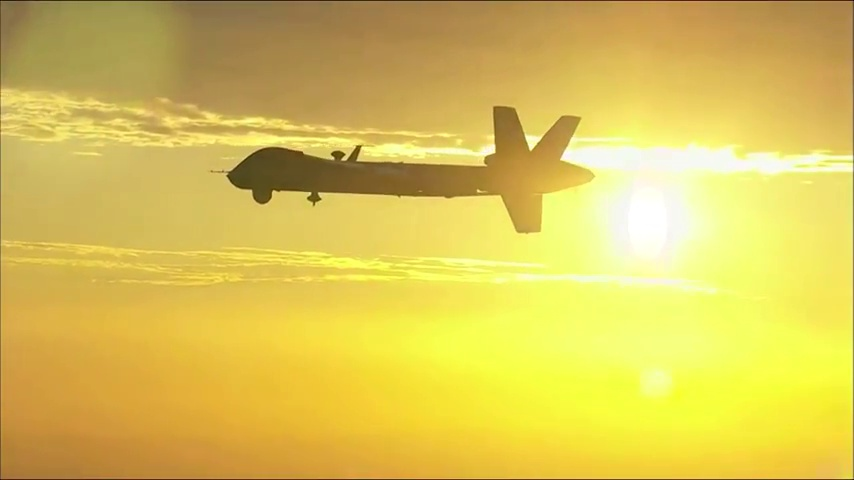military drone: (208, 105, 596, 233)
